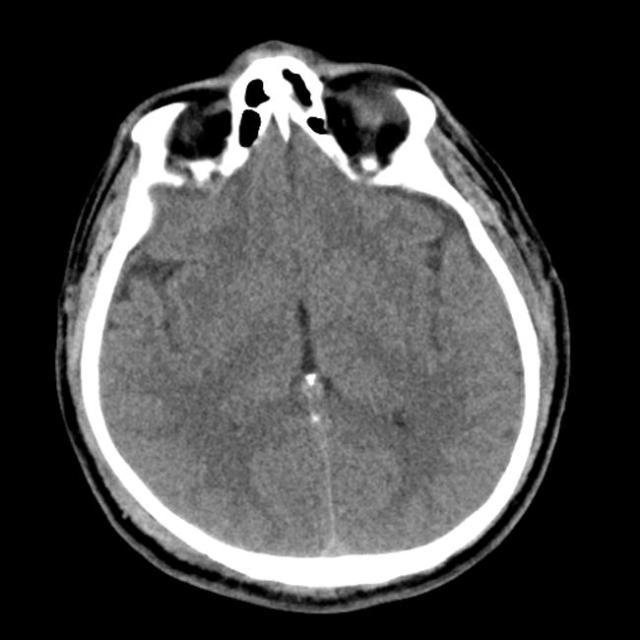lesion: (52, 39, 573, 610)
